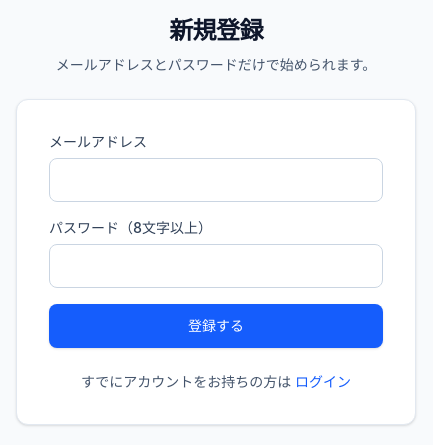
Register page › registers and shows the passkey opt-in when supported
In the field labelled "メールアドレス": (216, 180) [49, 158, 383, 202], type "test@example.com"
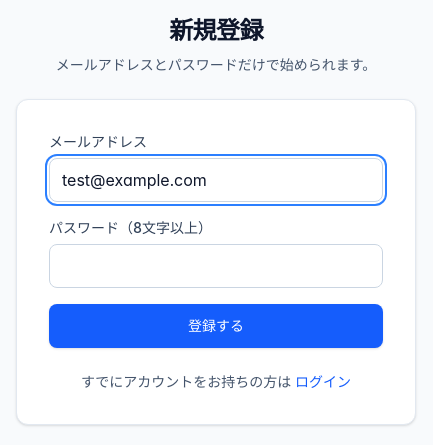
In the password field labelled "パスワード（8文字以上）": (216, 266) [49, 244, 383, 288], type "password123"
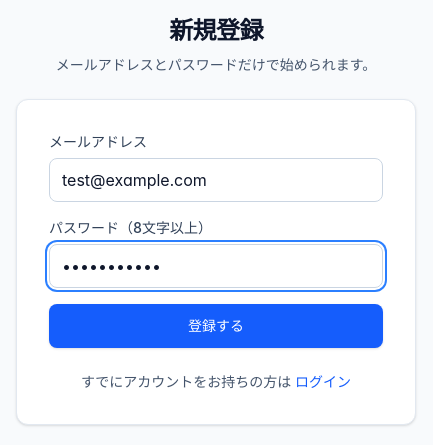
Click the button "登録する": (216, 326) [49, 304, 383, 348]
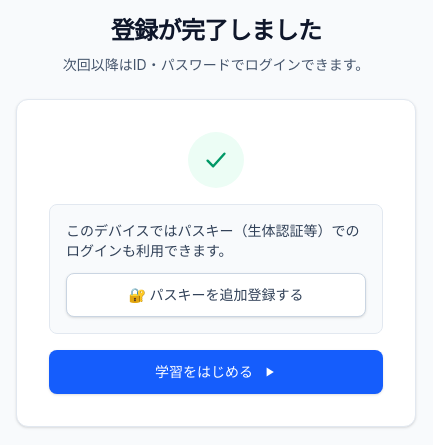
Expected: the heading "登録が完了しました" is shown, [111, 16, 321, 45]
Expected: the button "🔐 パスキーを追加登録する" is shown, [66, 273, 366, 317]
